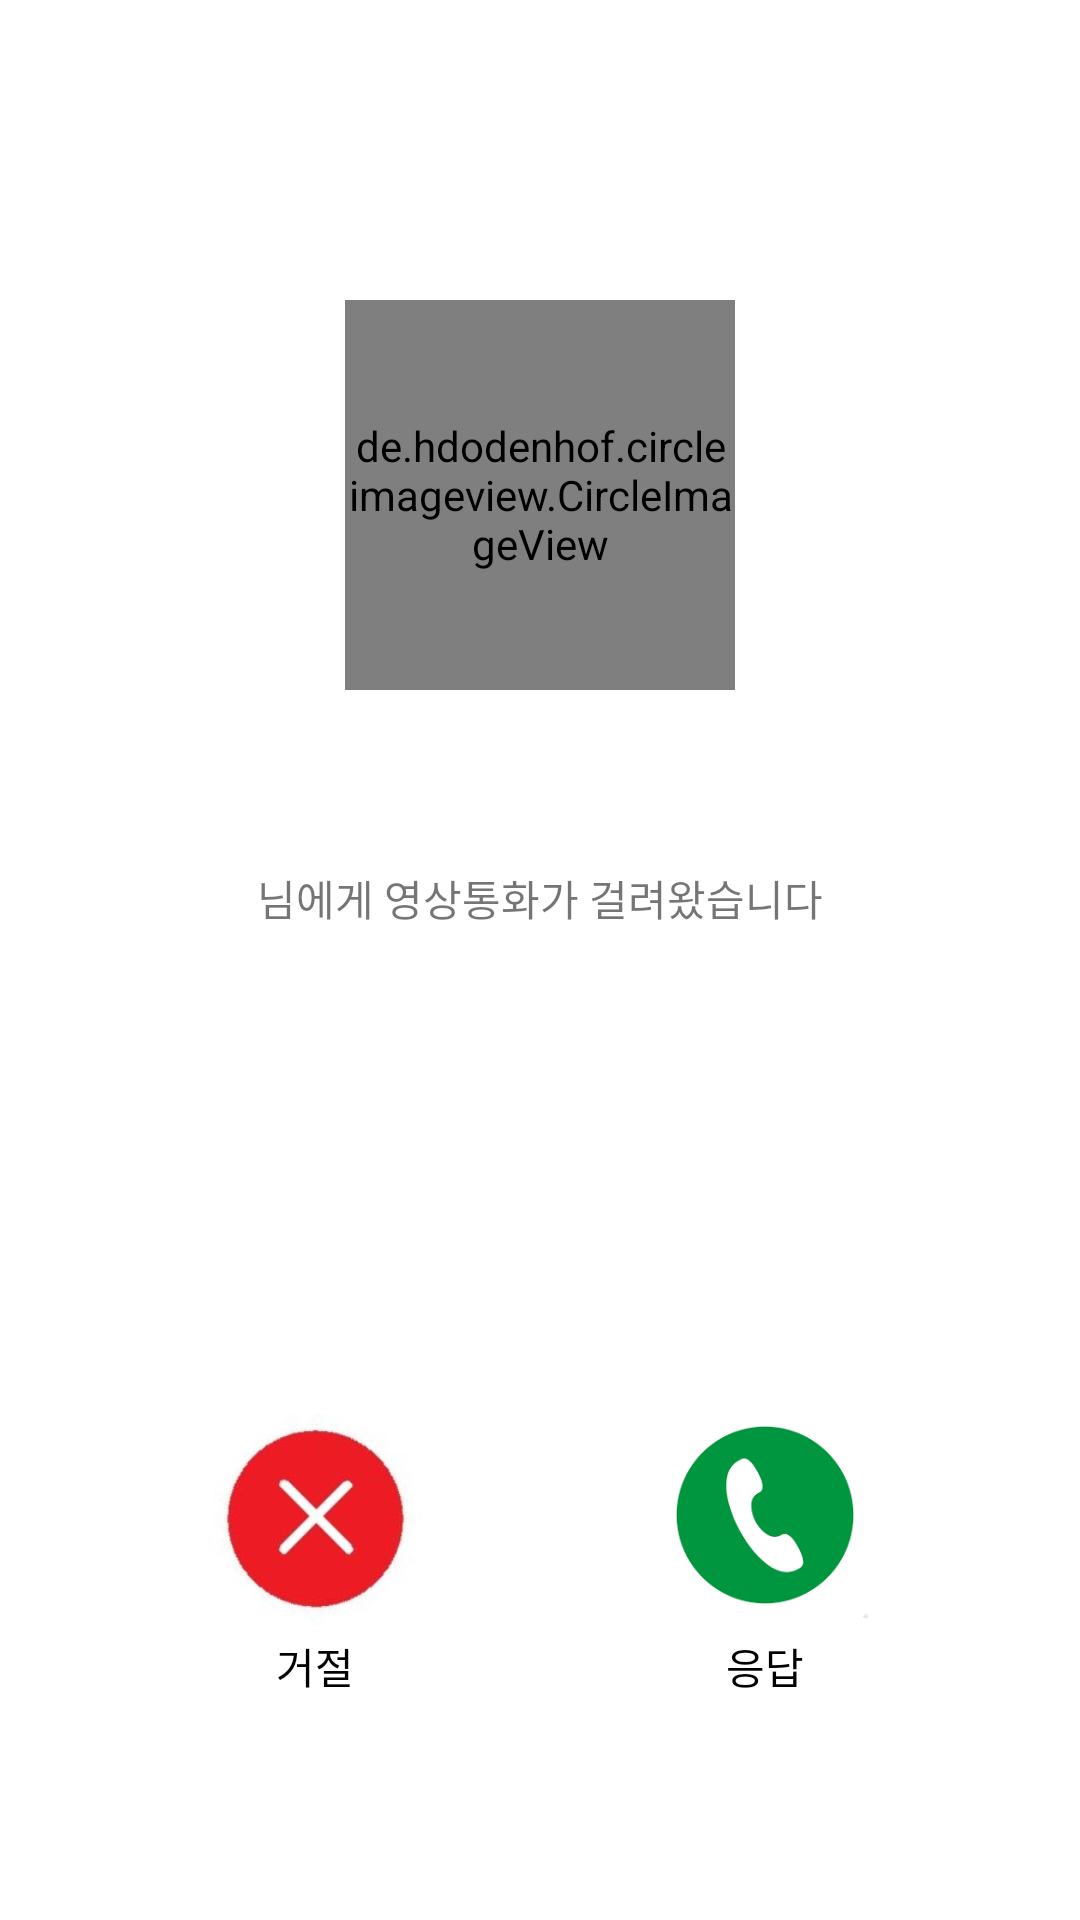

Icon click points for this 1080*1920 phone screenshot, format (x=x, y=y):
call: (x=772, y=1522)
